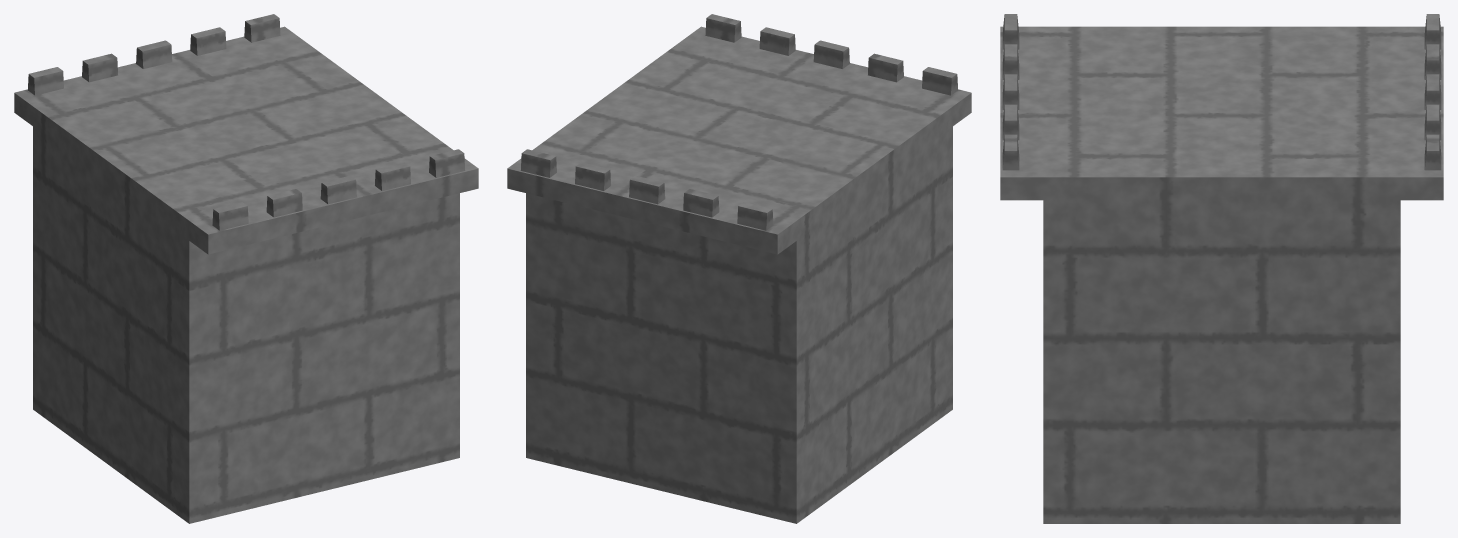
The model's file is CastleWall.fbx.
3 views of the same model, side by side, from view 1: azimuth 30°, elevation 25°; view 2: azimuth 150°, elevation 25°; view 3: azimuth 270°, elevation 25° (orthographic). The views are drawn at different scales.
Parts seen in each view (by area): view 1: Castle; view 2: Castle; view 3: Castle.
Part boxes in pixels (x1=…): Castle: x1=14, y1=14, x2=478, y2=523; Castle: x1=507, y1=14, x2=971, y2=523; Castle: x1=1000, y1=14, x2=1443, y2=523.
Size of the model in its own units: 200 by 226 by 248.
